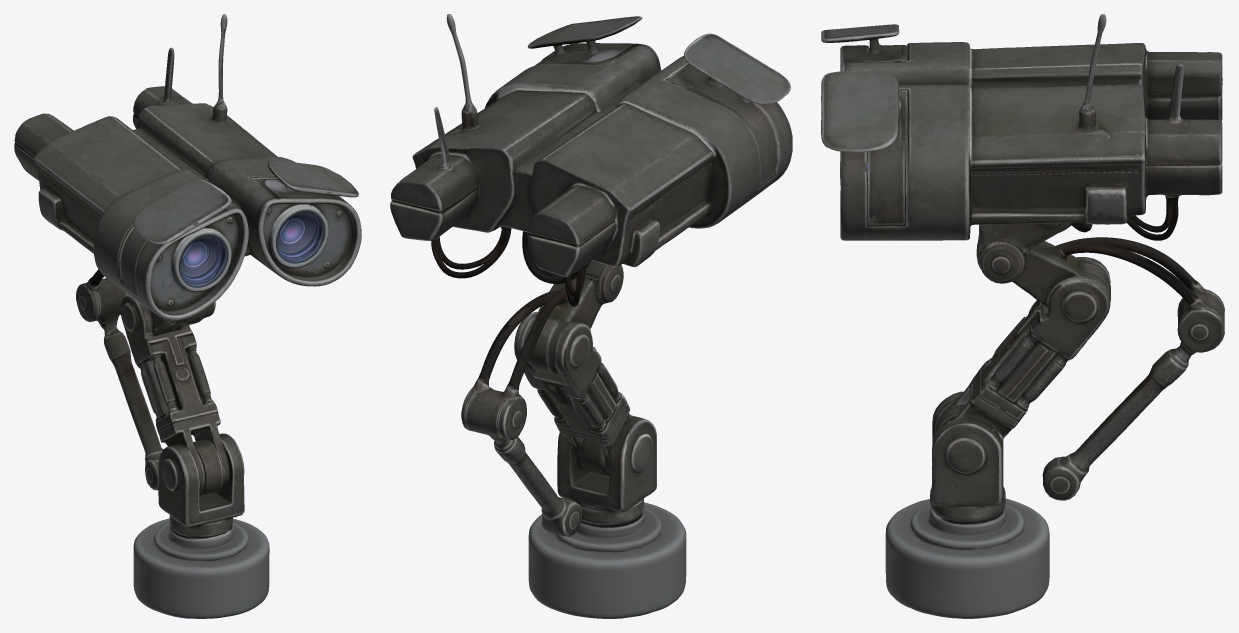
The model's file is tripo_convert_898a06a4-db55-49c8-b2f4-fc1e1524b7ff.fbx.
The picture shows the model from 3 angles, left to right: view 1: azimuth 30°, elevation 25°; view 2: azimuth 150°, elevation 25°; view 3: azimuth 270°, elevation 25°; orthographic projection. The views are drawn at different scales.
Parts seen in each view (by area): view 1: tripo_node_898a06a4; view 2: tripo_node_898a06a4; view 3: tripo_node_898a06a4.
Part boxes in pixels (x1,y1,x2,y2): tripo_node_898a06a4: (14,14,361,618); tripo_node_898a06a4: (390,14,792,618); tripo_node_898a06a4: (821,14,1224,618).
Bounding box in the file's own units: 0.4284 × 0.9787 × 0.5783.
Materials: 1 (1 with a texture image).
